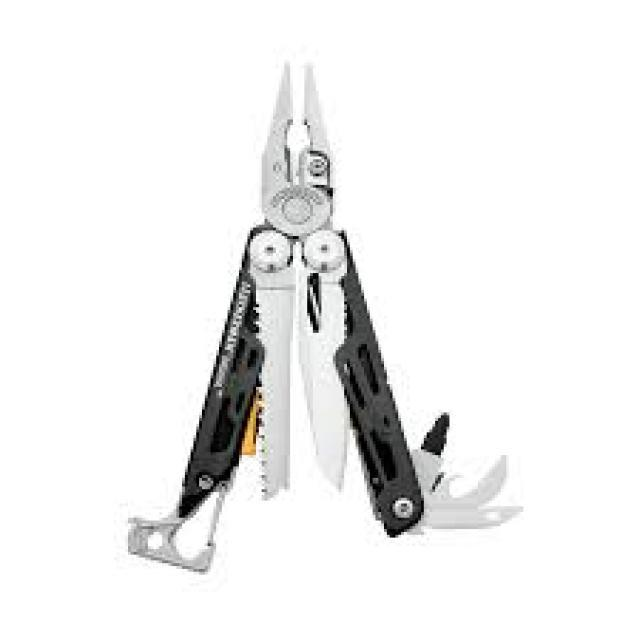pliers: (171, 44, 442, 536)
